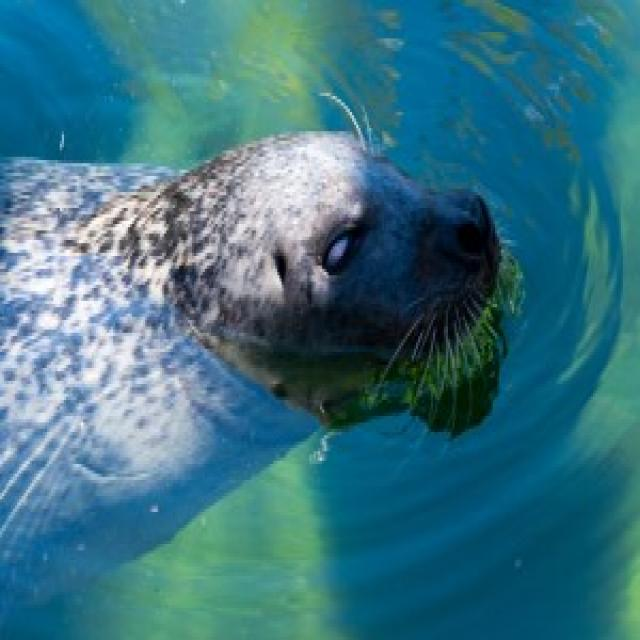Seal: (0, 99, 536, 632)
